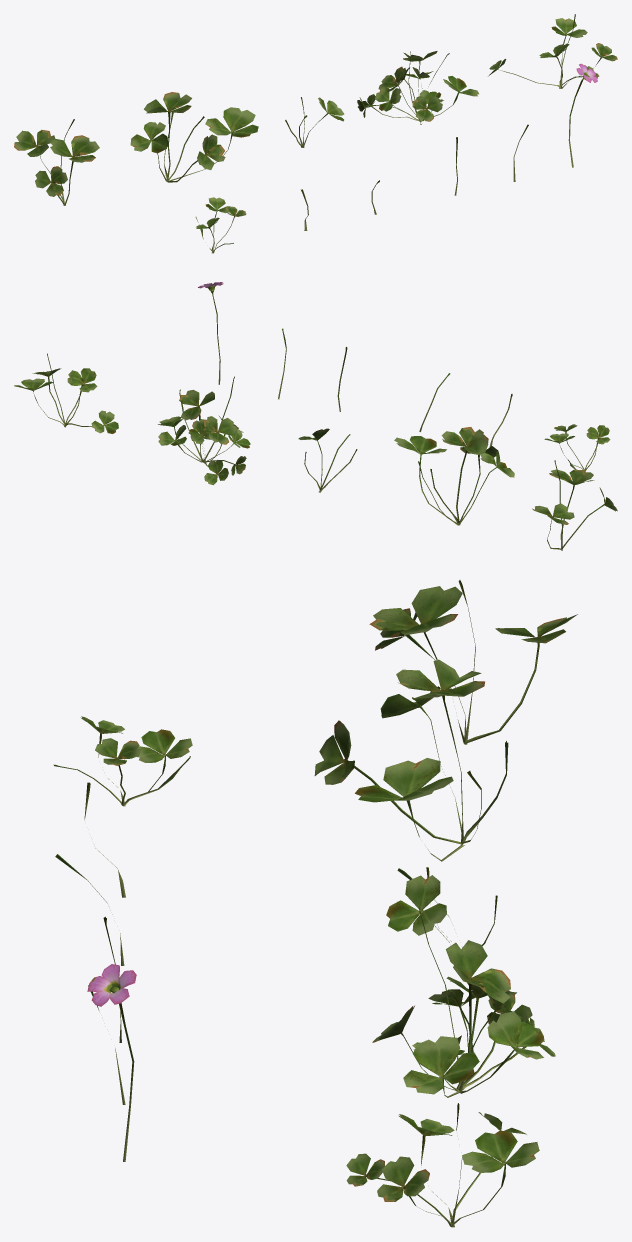
The model's file is shrub_sorrel_01_lo.glb.
3 renders of one model, top to bottom at view 1: azimuth 30°, elevation 25°; view 2: azimuth 150°, elevation 25°; view 3: azimuth 270°, elevation 25°, orthographic. The views are drawn at different scales.
Parts seen in each view (by area): view 1: shrub_sorrel_01_b, shrub_sorrel_01_d, shrub_sorrel_01_a, shrub_sorrel_01_e, shrub_sorrel_01_f, shrub_sorrel_01_c, shrub_sorrel_01_k; view 2: shrub_sorrel_01_d, shrub_sorrel_01_b, shrub_sorrel_01_e, shrub_sorrel_01_a, shrub_sorrel_01_f, shrub_sorrel_01_c; view 3: shrub_sorrel_01_d, shrub_sorrel_01_b, shrub_sorrel_01_e, shrub_sorrel_01_a, shrub_sorrel_01_f, shrub_sorrel_01_c, shrub_sorrel_01_k.
Part boxes in pixels (<box>): shrub_sorrel_01_b: <box>130,92,258,182</box>; shrub_sorrel_01_d: <box>357,51,478,124</box>; shrub_sorrel_01_a: <box>14,119,99,205</box>; shrub_sorrel_01_e: <box>488,14,617,88</box>; shrub_sorrel_01_f: <box>195,197,246,253</box>; shrub_sorrel_01_c: <box>285,97,344,147</box>; shrub_sorrel_01_k: <box>568,63,597,167</box>; shrub_sorrel_01_d: <box>158,376,250,485</box>; shrub_sorrel_01_b: <box>394,427,514,525</box>; shrub_sorrel_01_e: <box>14,353,118,433</box>; shrub_sorrel_01_a: <box>532,460,617,550</box>; shrub_sorrel_01_f: <box>544,424,610,471</box>; shrub_sorrel_01_c: <box>298,428,357,492</box>; shrub_sorrel_01_d: <box>372,907,555,1097</box>; shrub_sorrel_01_b: <box>314,659,508,861</box>; shrub_sorrel_01_e: <box>346,1103,539,1227</box>; shrub_sorrel_01_a: <box>369,580,577,744</box>; shrub_sorrel_01_f: <box>53,716,192,806</box>; shrub_sorrel_01_c: <box>386,867,497,947</box>; shrub_sorrel_01_k: <box>87,964,136,1161</box>.
Size of the model in its own units: 0.3521 by 0.058 by 0.1388.
Materials: 1 (1 with a texture image).
